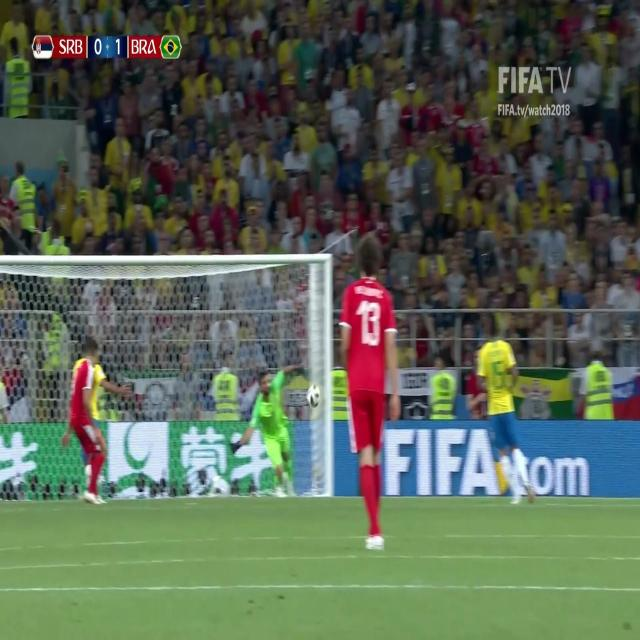ball: (304, 376, 322, 414)
player: (331, 234, 406, 555), (228, 353, 305, 497), (476, 324, 530, 503), (59, 336, 111, 510)
